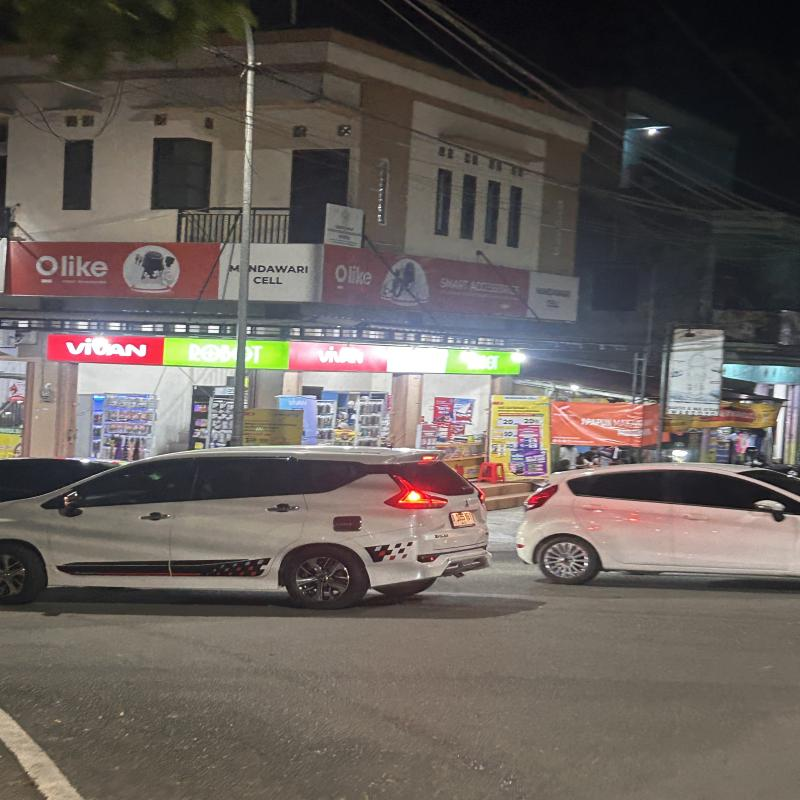license plate on a car: (451, 511, 481, 528)
